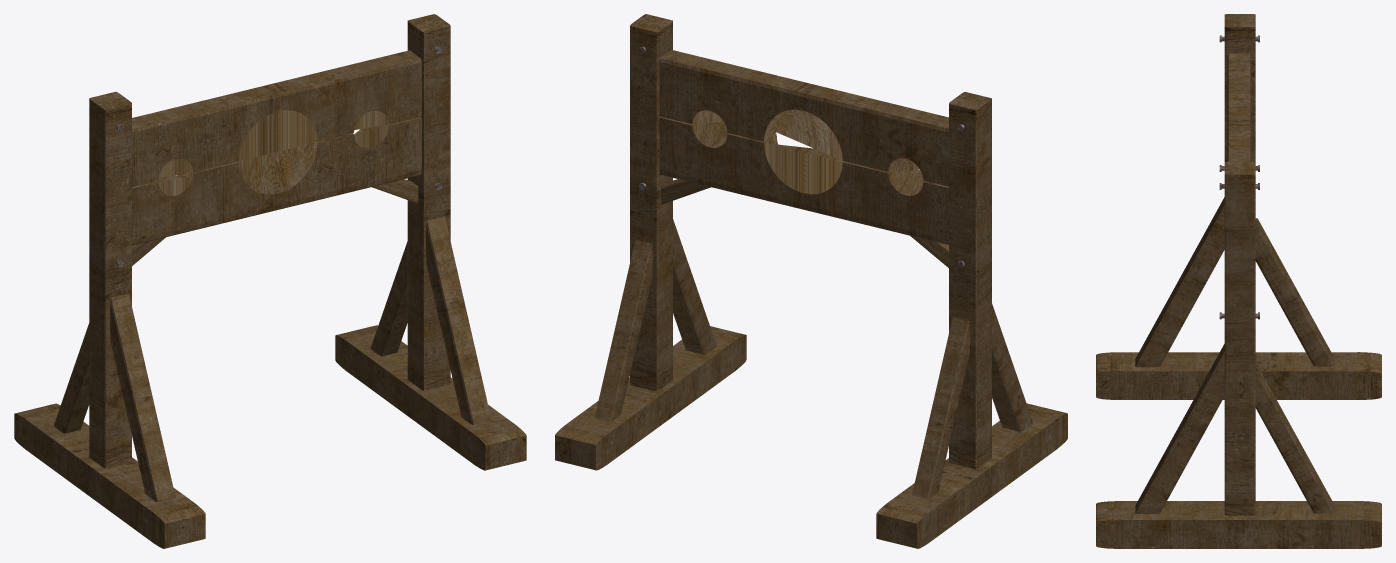
The model's file is Pillory.fbx.
3 renders of one model, left to right at view 1: azimuth 30°, elevation 25°; view 2: azimuth 150°, elevation 25°; view 3: azimuth 270°, elevation 25°, orthographic. The views are drawn at different scales.
Visible parts, largest first — view 1: Pillory; view 2: Pillory; view 3: Pillory.
Part boxes in pixels (x1,y1,x2,y2): Pillory: (14,14,526,548); Pillory: (555,14,1067,548); Pillory: (1096,14,1381,548).
Bounding box in the file's own units: 227 × 234 × 163.
